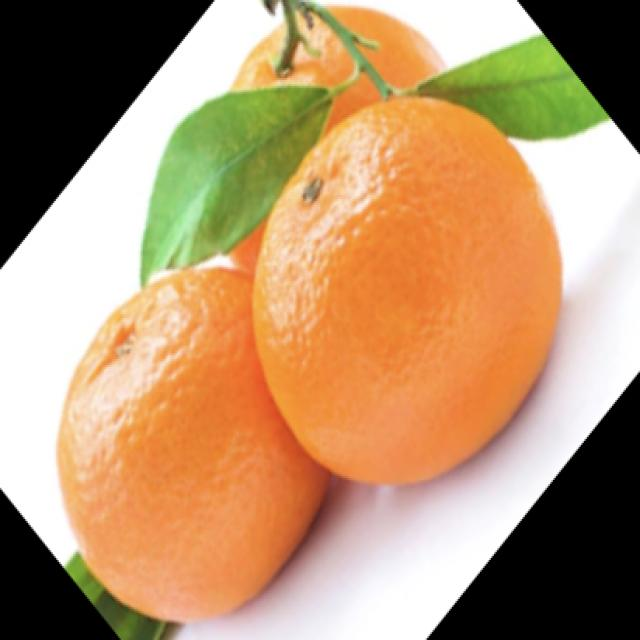fresh: (50, 0, 596, 633)
